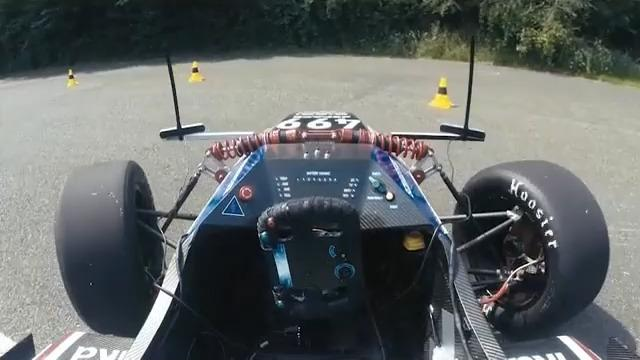yellow_cone: (427, 77, 454, 110), (186, 60, 207, 83), (68, 68, 81, 87)
